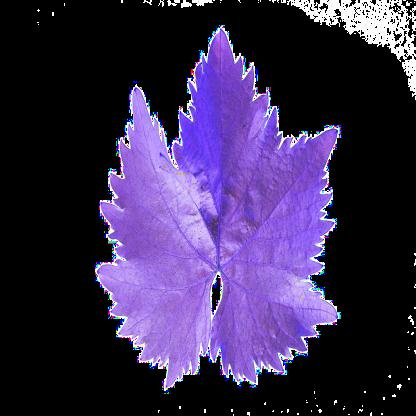grape leaf: (73, 30, 356, 392)
